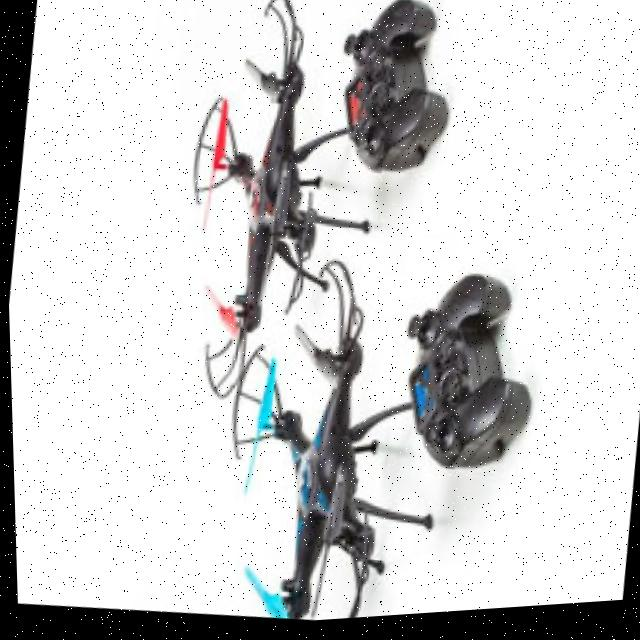drones: (116, 0, 493, 634)
